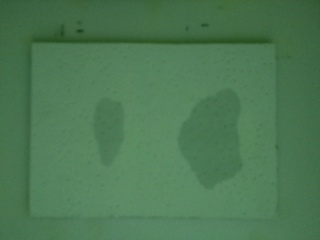Water_detected: (182, 104, 236, 177), (93, 103, 123, 160)
